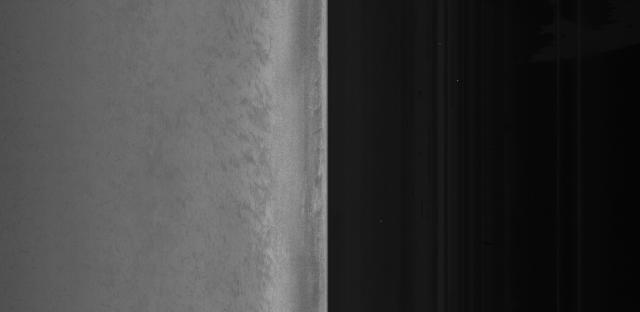silk_spot: (221, 112, 272, 194)
